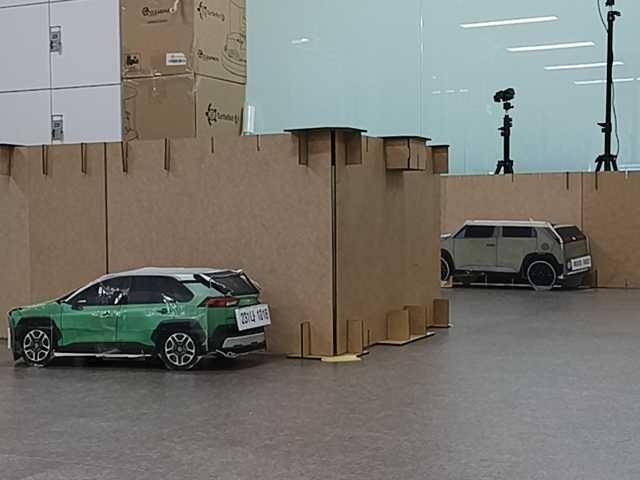car: (9, 267, 270, 365), (440, 217, 593, 293)
id: (236, 303, 271, 331)
